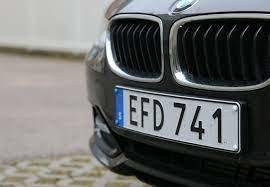license-plates: (114, 86, 241, 152)
